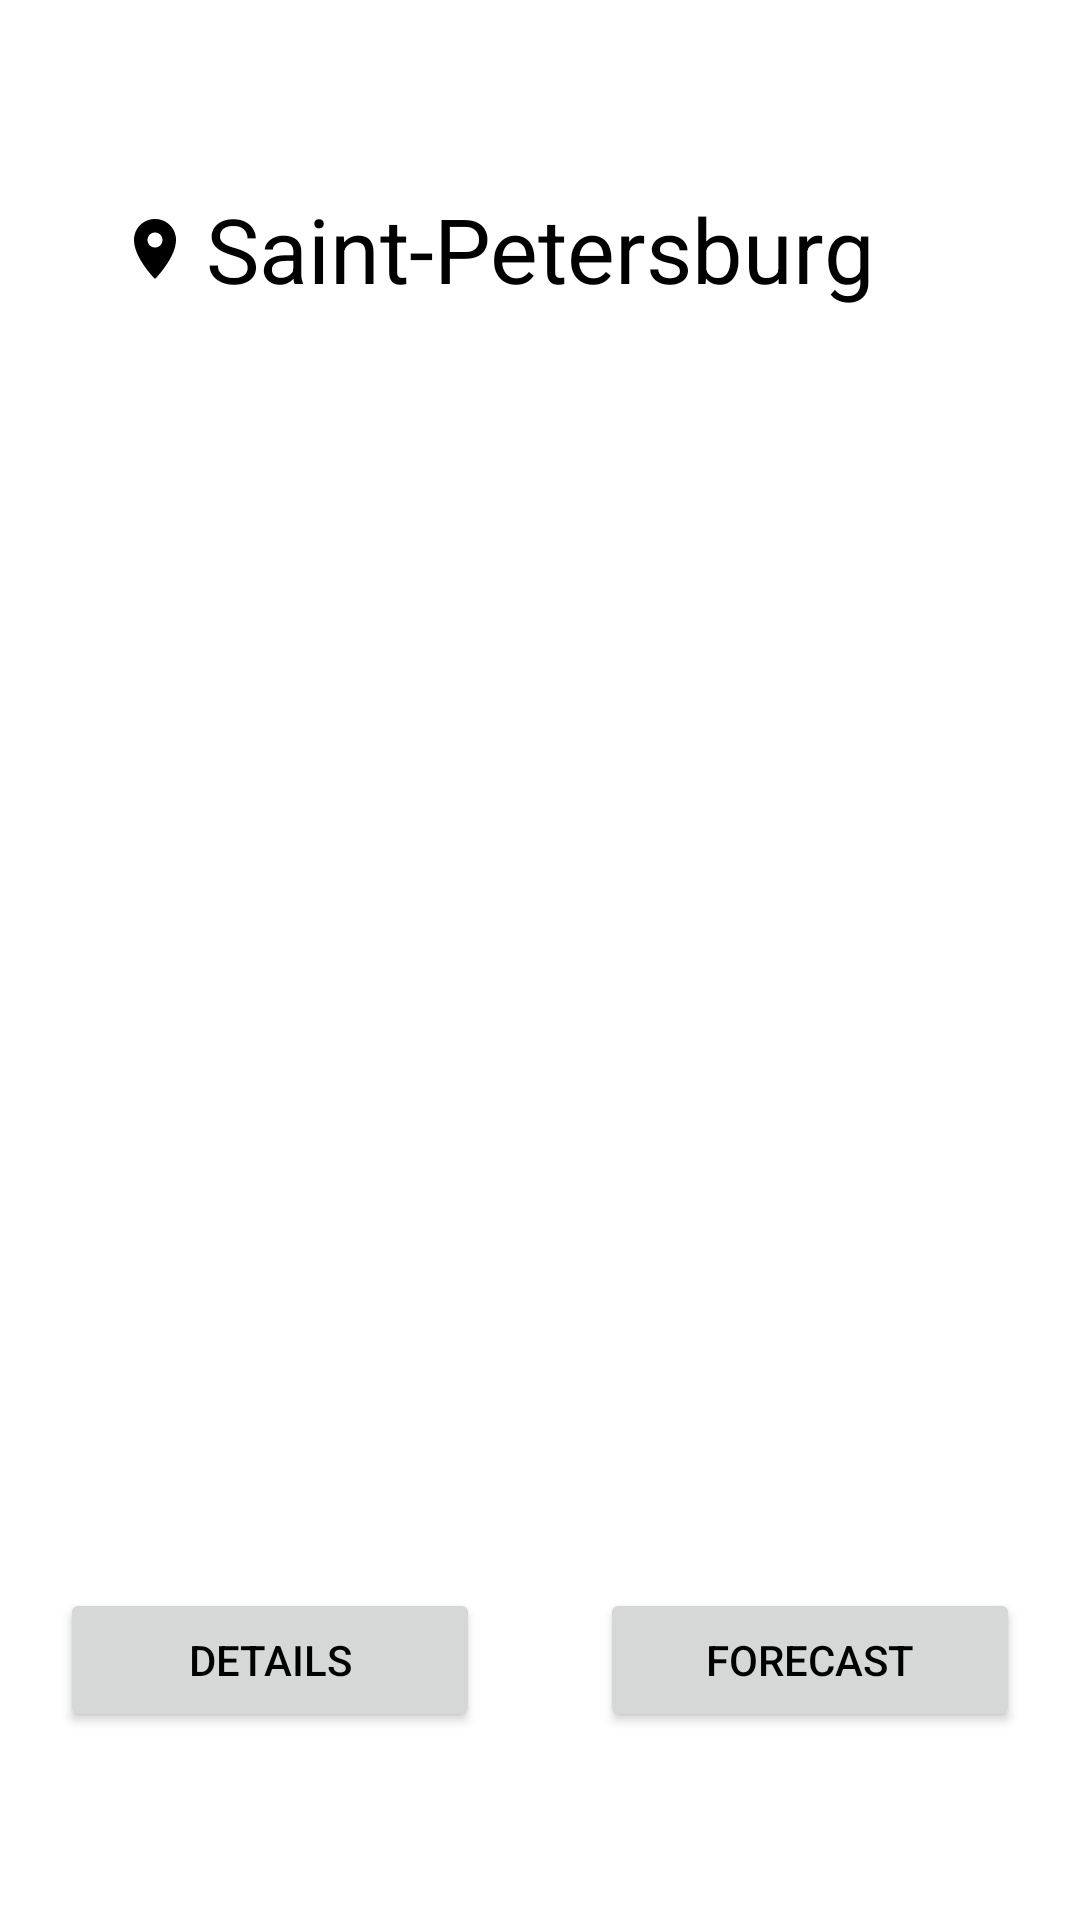

Where to tap for icons on this 1080 × 1920 app screen, as (x,y):
location point: (155,249)
